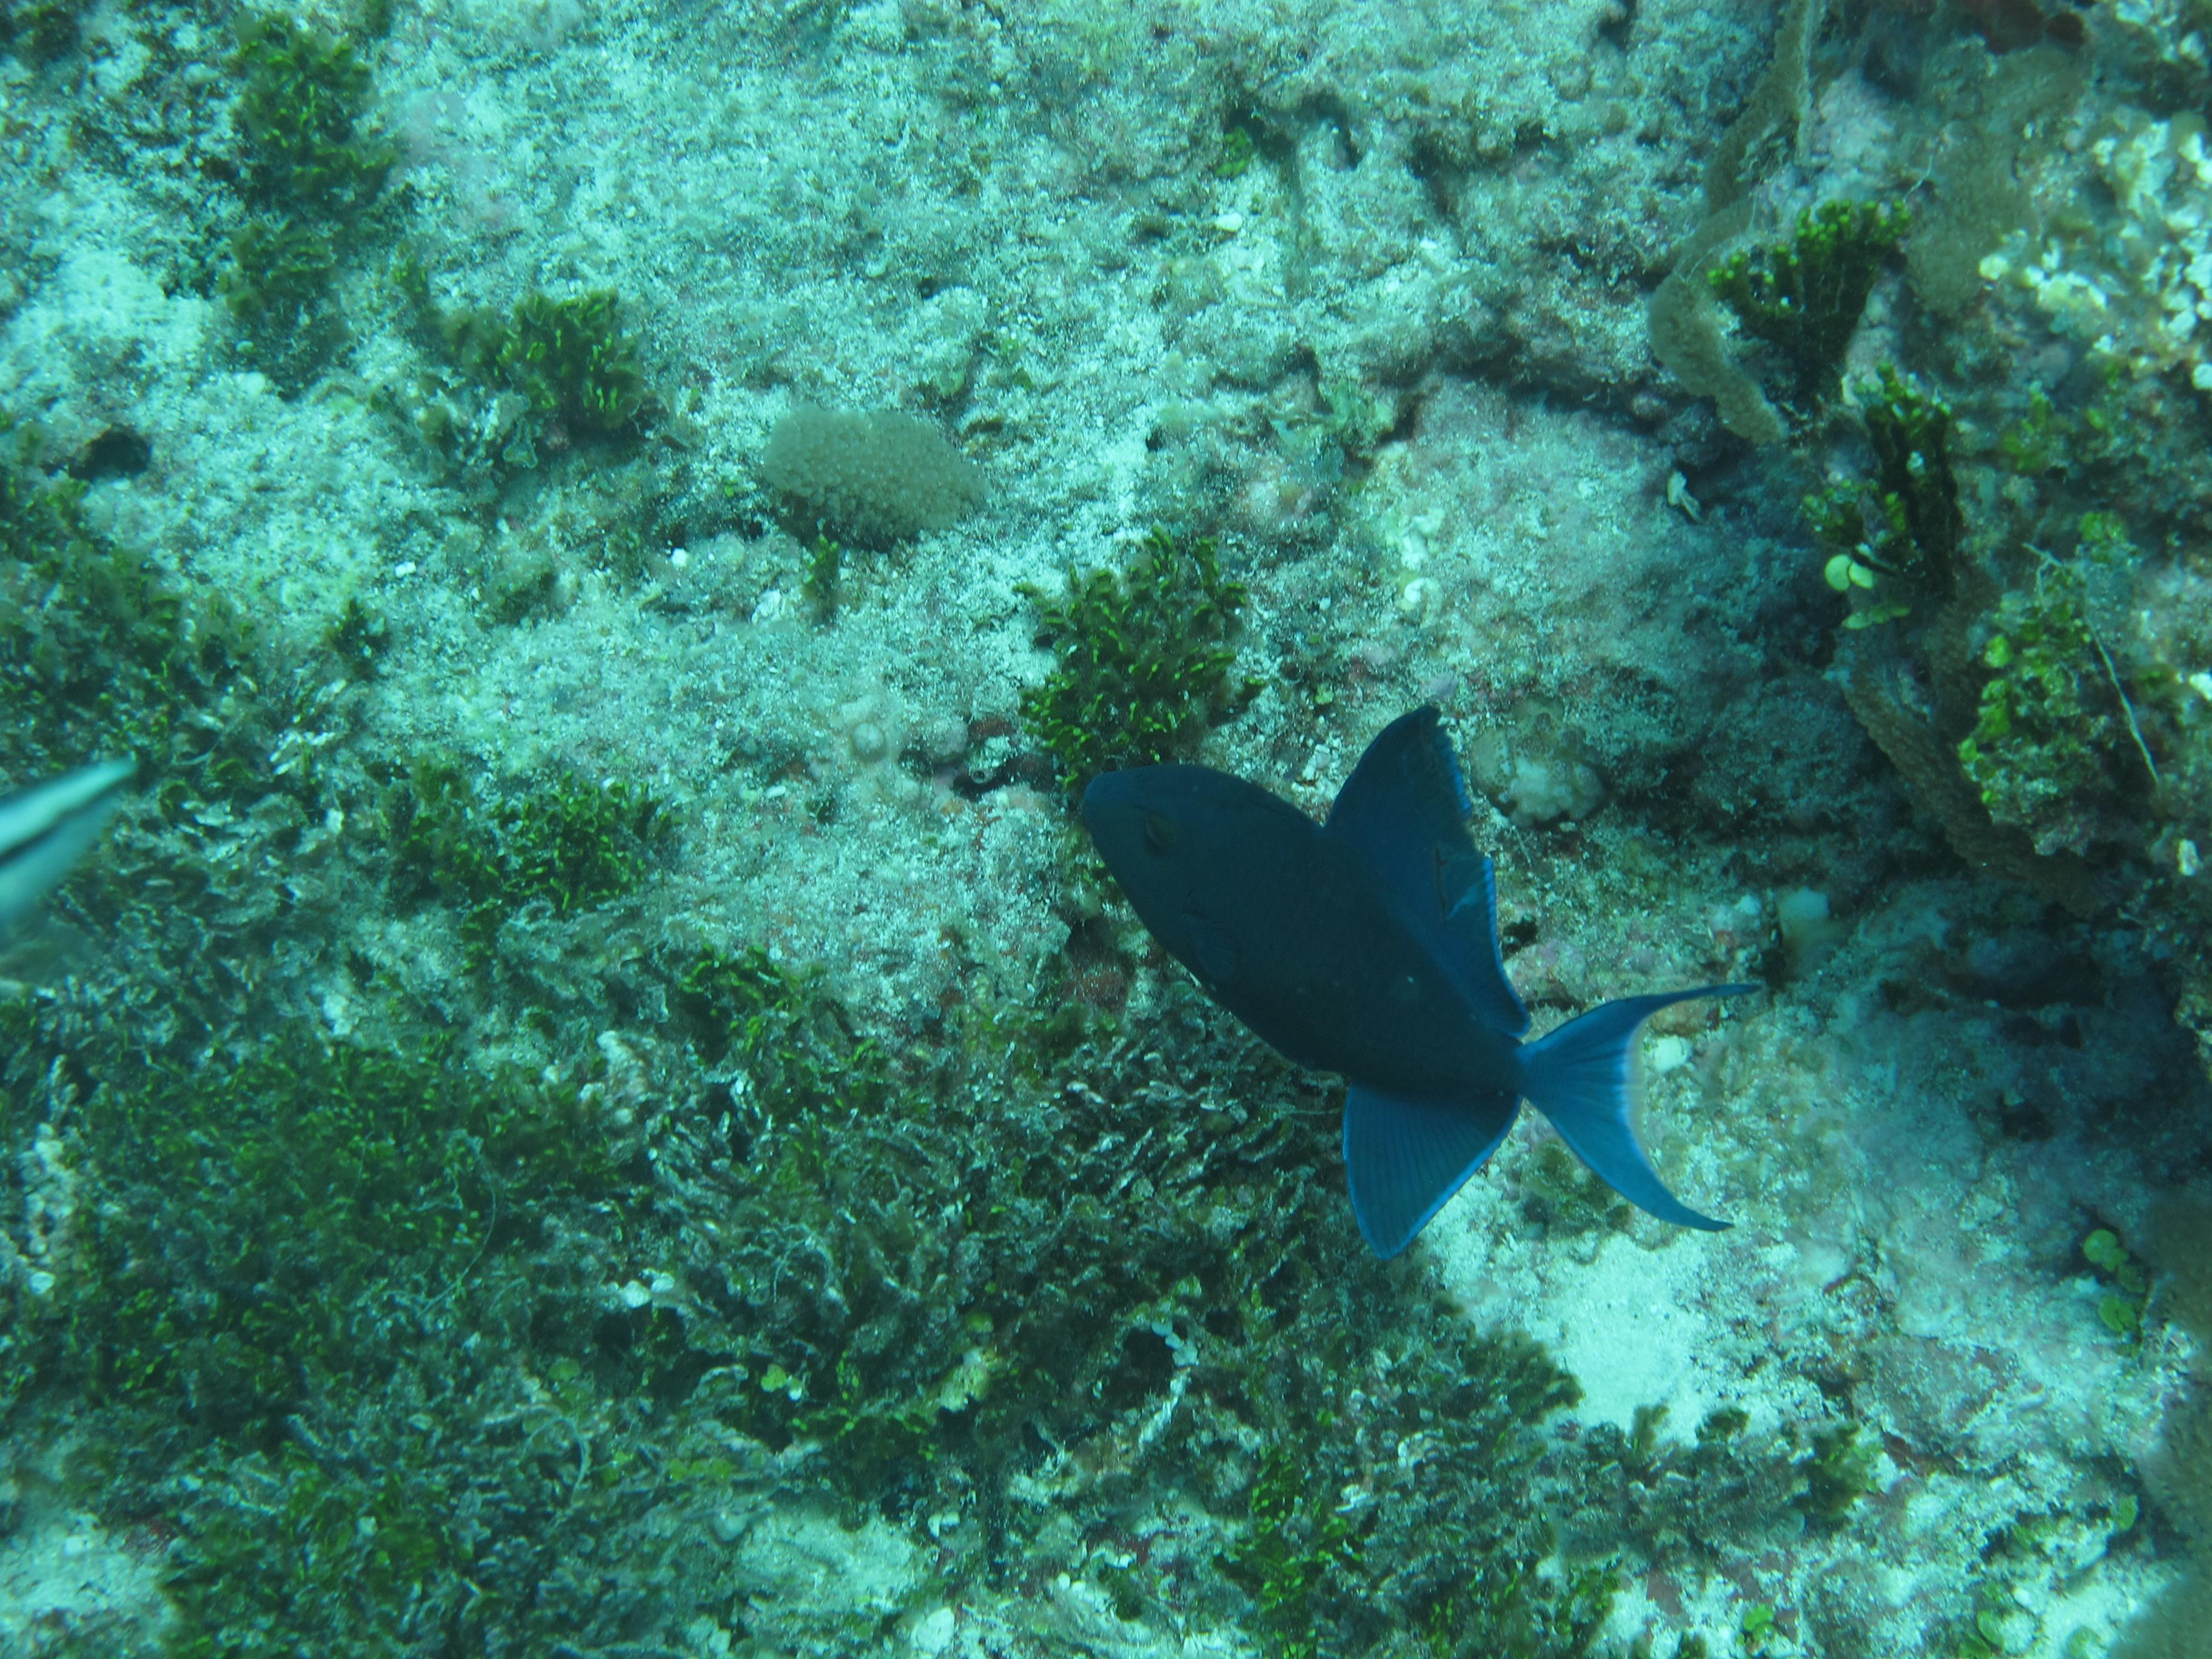Odonus niger: (786, 612, 2019, 1380)
